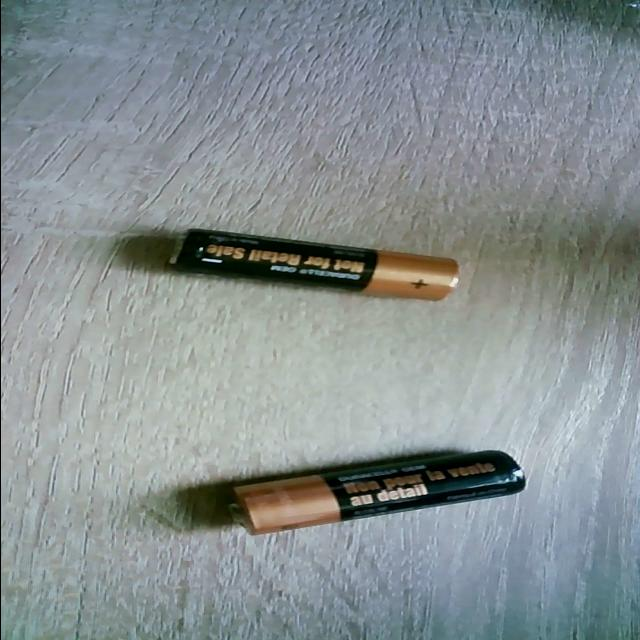AA: (225, 449, 528, 536), (165, 228, 461, 302)
